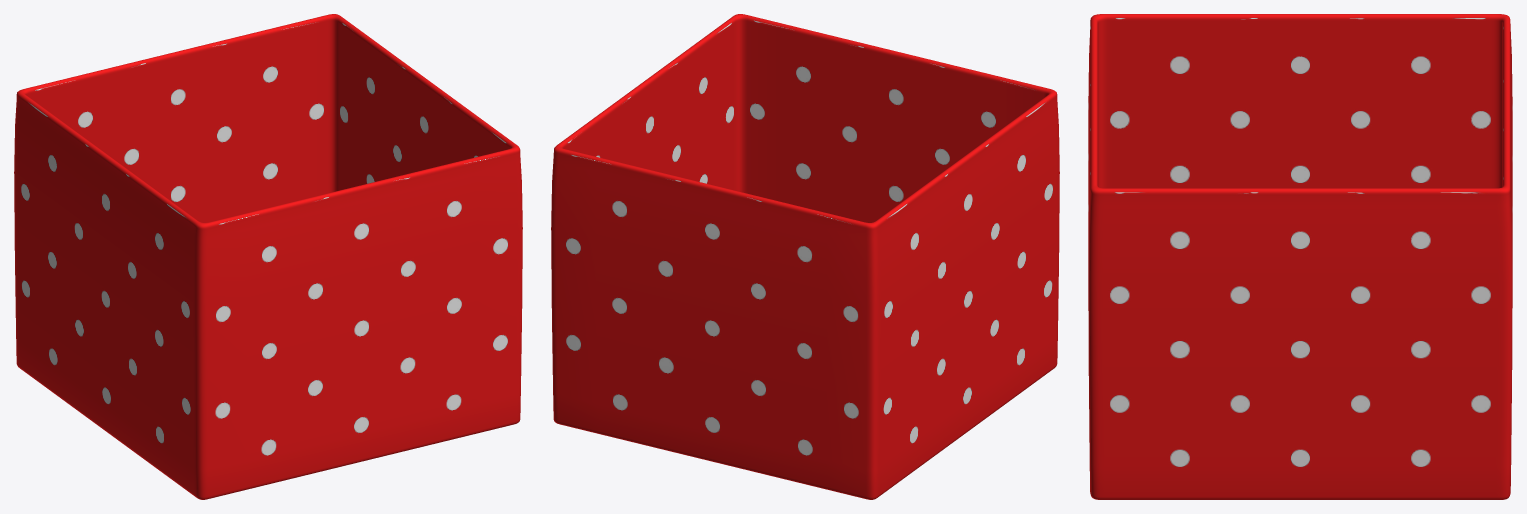
File: cajareg.obj
3 renders of one model, left to right at view 1: azimuth 30°, elevation 25°; view 2: azimuth 150°, elevation 25°; view 3: azimuth 270°, elevation 25°, orthographic. The views are drawn at different scales.
Parts seen in each view (by area): view 1: cajareg3:_gift_box; view 2: cajareg3:_gift_box; view 3: cajareg3:_gift_box.
Boxes of the visible parts, bbox=[...] form: cajareg3:_gift_box: bbox=[14, 14, 522, 499]; cajareg3:_gift_box: bbox=[551, 14, 1059, 499]; cajareg3:_gift_box: bbox=[1088, 14, 1512, 499].
Size of the model in its own units: 0.4042 by 0.3267 by 0.4038.
1 material, 1 textured.
